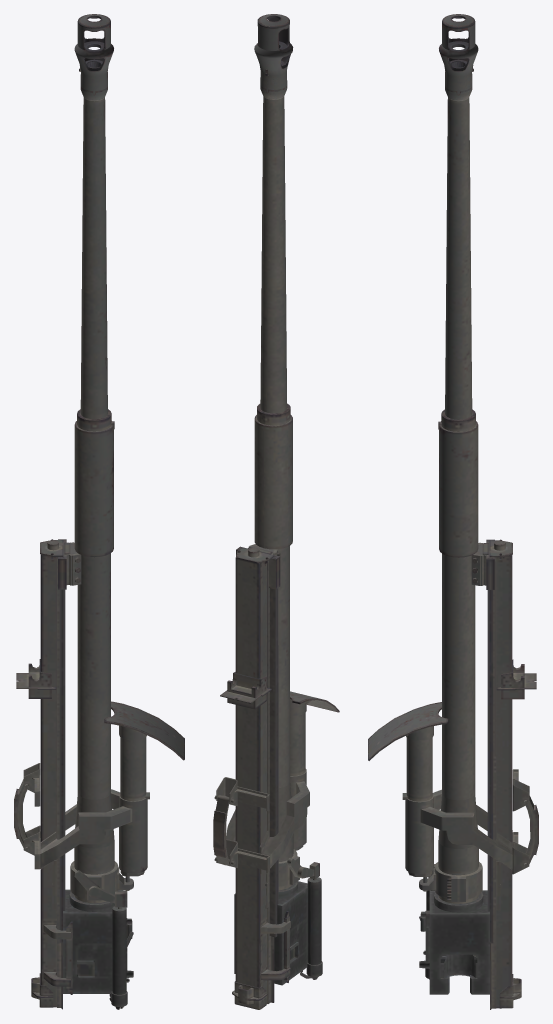
The model's file is Gun_03.glb.
3 views of the same model, side by side, from view 1: azimuth 90°, elevation 25°; view 2: azimuth 150°, elevation 25°; view 3: azimuth 270°, elevation 25° (orthographic).
Parts seen in each view (by area): view 1: set_0_group_0; view 2: set_0_group_0; view 3: set_0_group_0.
Part boxes in pixels (bbox=[...]): set_0_group_0: bbox=[14, 14, 184, 1009]; set_0_group_0: bbox=[213, 14, 339, 1009]; set_0_group_0: bbox=[368, 14, 538, 1009].
Bounding box in the file's own units: 0.4625 × 6.76 × 1.06.
Materials: 1 (1 with a texture image).
